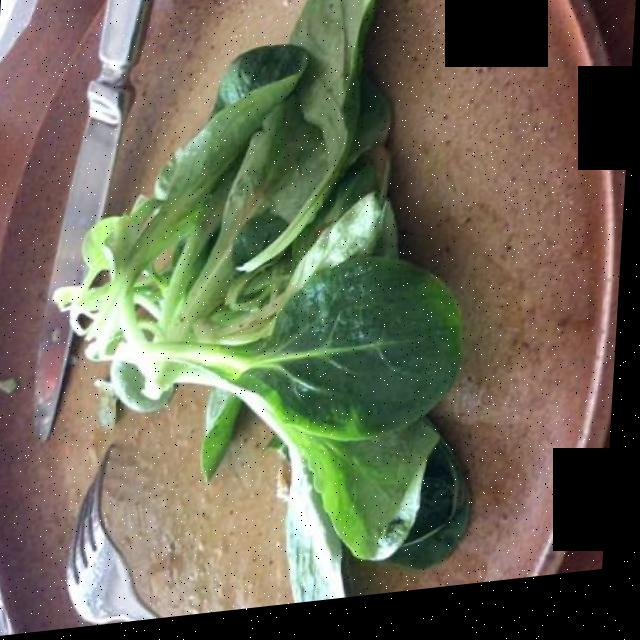oil-vinegar-salad-dressing: (89, 0, 477, 597)
salad-lambs-ear: (90, 0, 481, 593)
